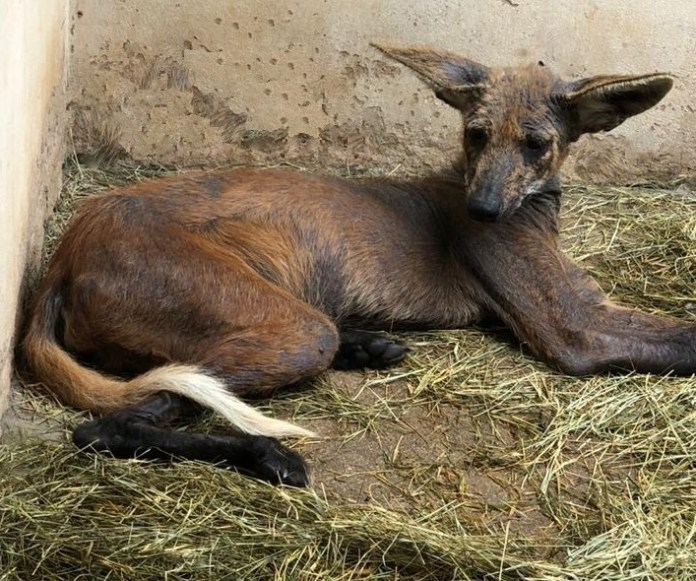LoboGuara: (29, 39, 671, 439)
